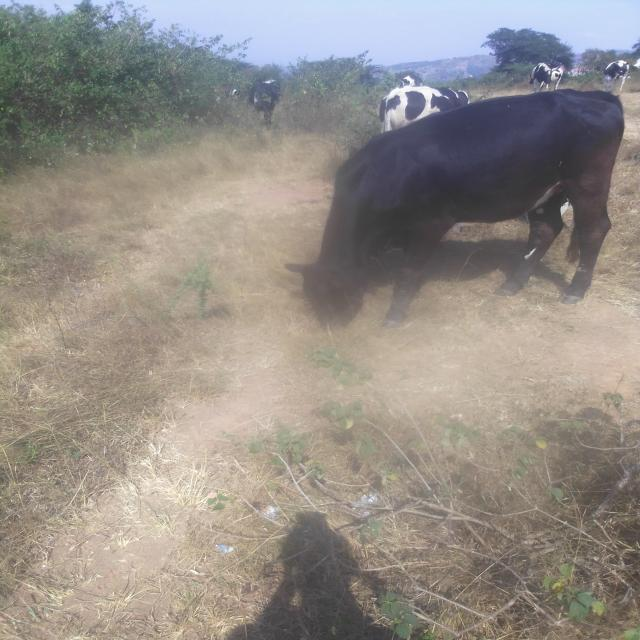Left: (287, 89, 623, 328)
